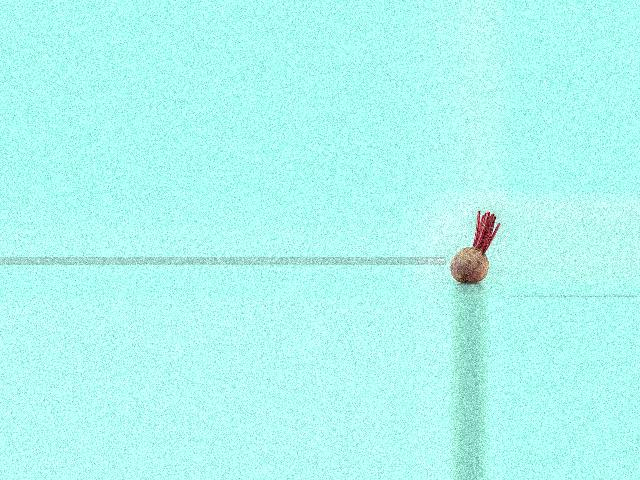beet: (449, 211, 499, 283)
